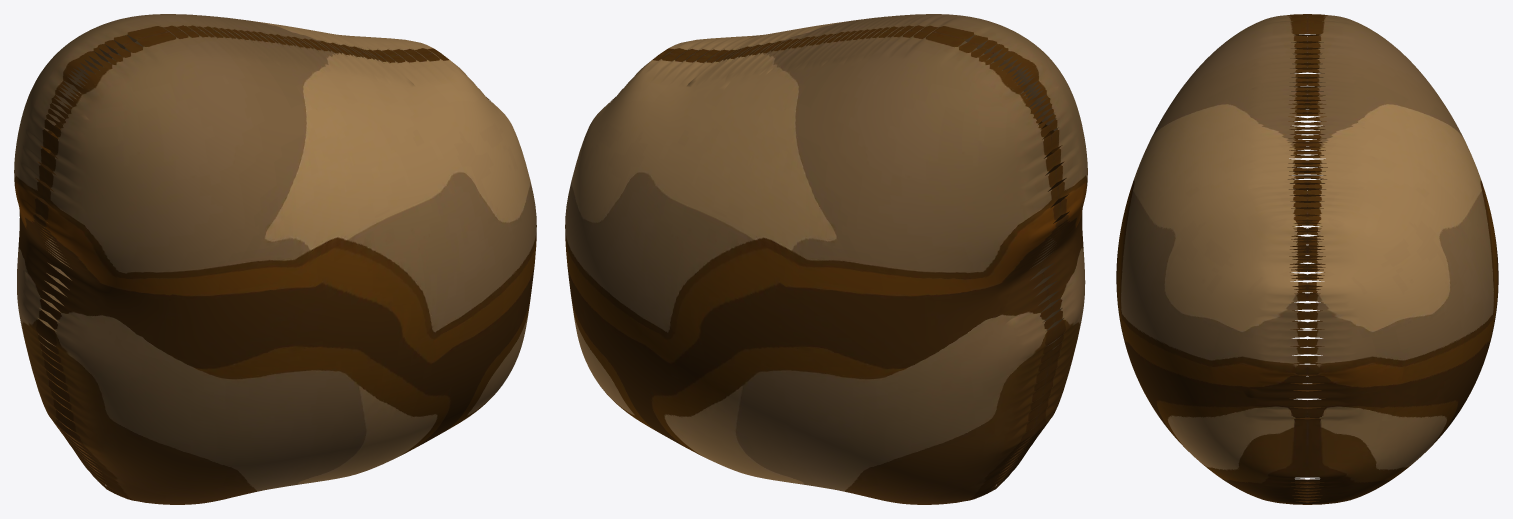
File: side_boulder.glb
3 views of the same model, side by side, from view 1: azimuth 30°, elevation 25°; view 2: azimuth 150°, elevation 25°; view 3: azimuth 270°, elevation 25° (orthographic). The views are drawn at different scales.
Visible parts, largest first — view 1: side_boulder; view 2: side_boulder; view 3: side_boulder.
Part boxes in pixels (x1,y1,x2,y2): side_boulder: (14, 14, 536, 504); side_boulder: (565, 14, 1087, 504); side_boulder: (1116, 14, 1498, 504).
Size of the model in its own units: 0.9888 by 0.9261 by 0.8284.
1 material, 1 textured.
